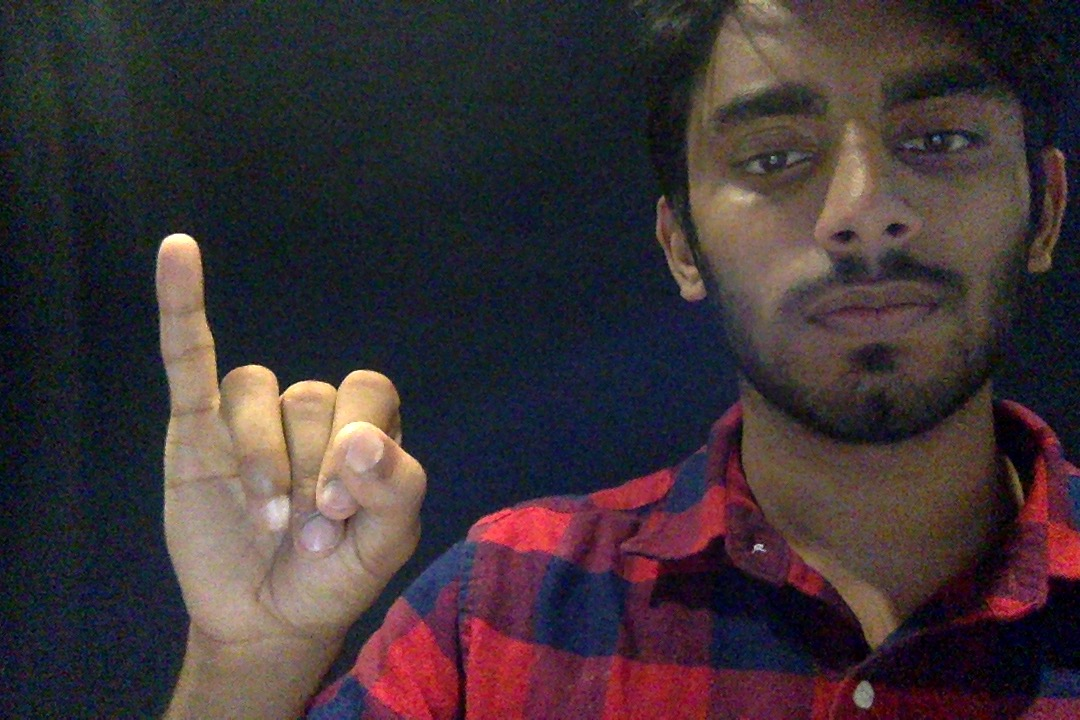i: (118, 208, 453, 720)
